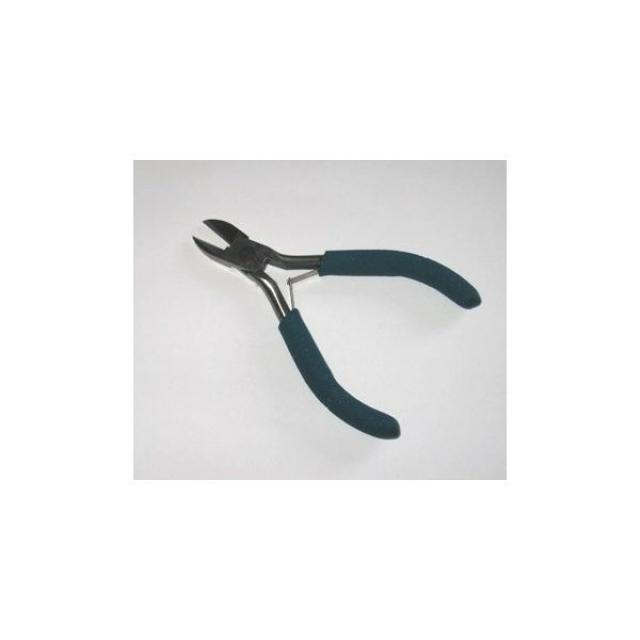pliers: (187, 214, 485, 446)
